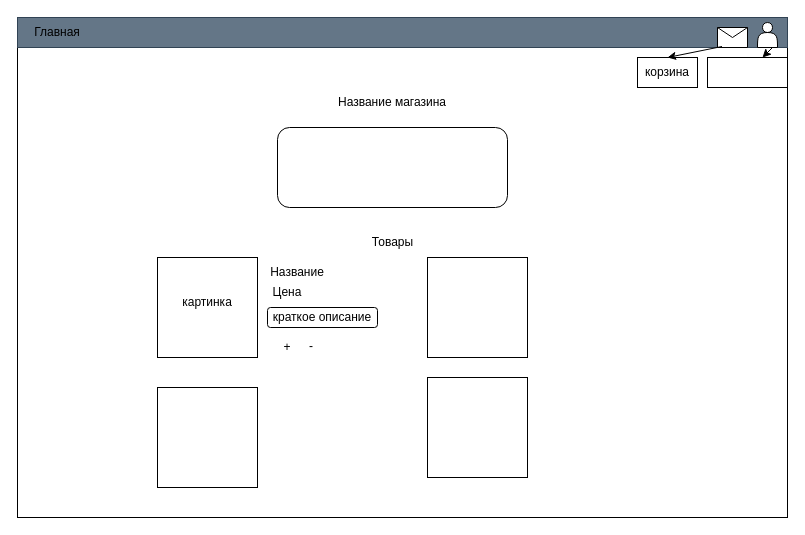
This 805x535 diagram has some shape labels left out. Here are the shapes that lost their labels. From the top down, the centre of each, then its label:
At point (747, 72): "вход/регистрация".
At point (392, 167): "о нас".
